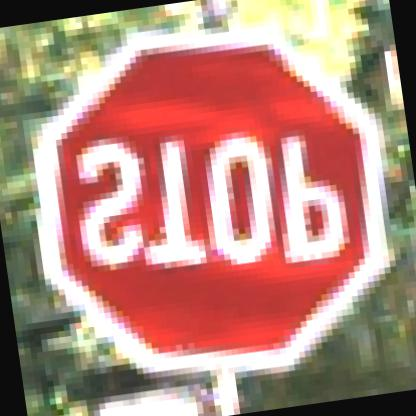stop: (21, 6, 412, 392)
